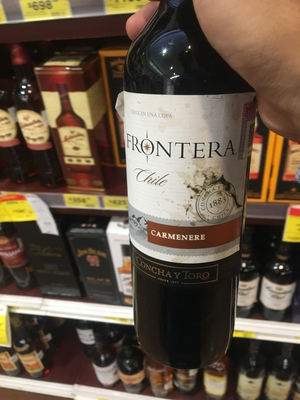frontera carmenere: (109, 14, 265, 347)
